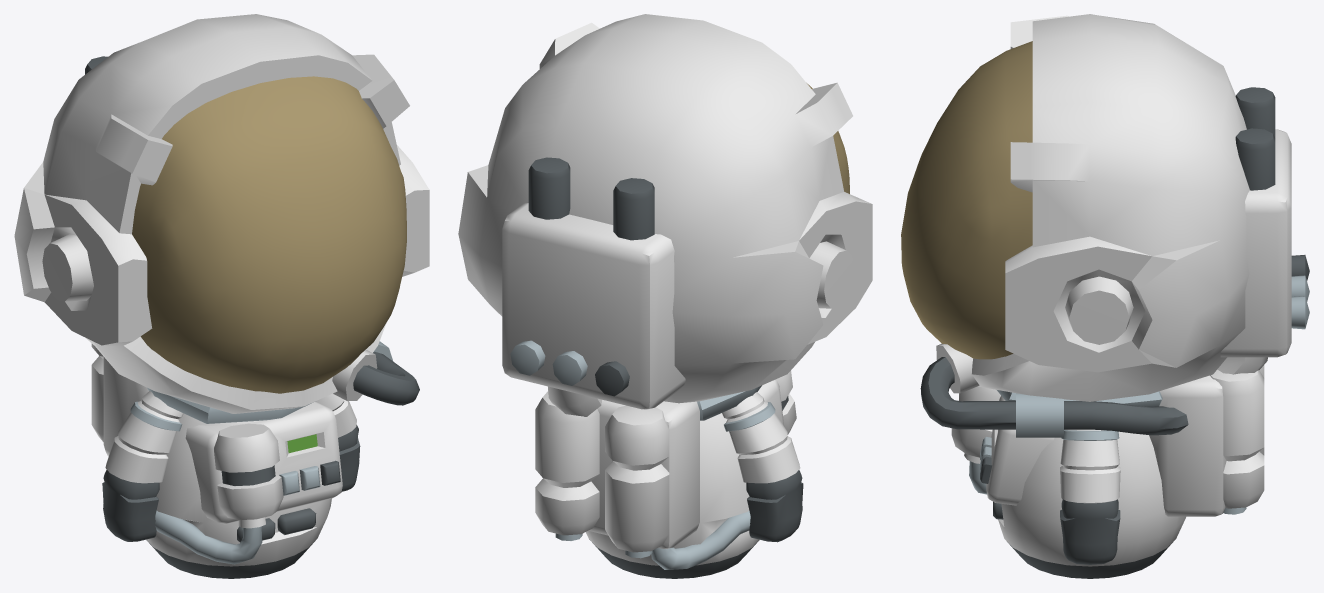
File: character_astronaut_A.gltf
The picture shows the model from 3 angles, left to right: view 1: azimuth 30°, elevation 25°; view 2: azimuth 150°, elevation 25°; view 3: azimuth 270°, elevation 25°; orthographic projection.
Visible parts, largest first — view 1: character_astronaut_helmet_A, character_astronaut_body_A, character_astronaut_armRight_A, character_astronaut_backpack_A, character_astronaut_armLeft_A; view 2: character_astronaut_helmet_A, character_astronaut_backpack_A, character_astronaut_body_A, character_astronaut_armRight_A; view 3: character_astronaut_helmet_A, character_astronaut_body_A, character_astronaut_backpack_A, character_astronaut_armLeft_A.
Part boxes in pixels (box(x1,y1,x2,y2)): character_astronaut_helmet_A: box(14, 14, 429, 423); character_astronaut_body_A: box(146, 401, 342, 578); character_astronaut_armRight_A: box(102, 391, 183, 541); character_astronaut_backpack_A: box(91, 343, 148, 456); character_astronaut_armLeft_A: box(315, 393, 360, 491); character_astronaut_helmet_A: box(458, 14, 872, 420); character_astronaut_backpack_A: box(535, 391, 699, 558); character_astronaut_body_A: box(586, 371, 796, 578); character_astronaut_armRight_A: box(722, 392, 803, 542); character_astronaut_helmet_A: box(901, 14, 1309, 437); character_astronaut_body_A: box(951, 386, 1185, 578); character_astronaut_backpack_A: box(1149, 365, 1264, 516); character_astronaut_armLeft_A: box(1060, 429, 1120, 564).
Size of the model in its own units: 1.36 by 1.93 by 1.39.
